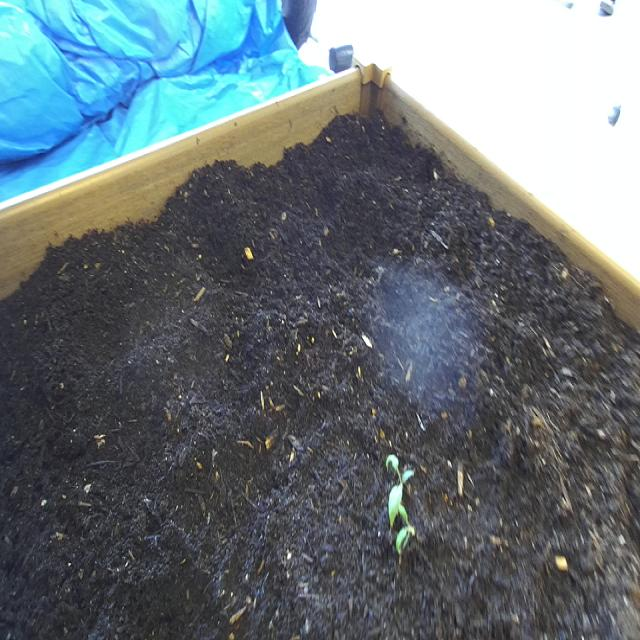Healthy: (384, 450, 418, 567)
